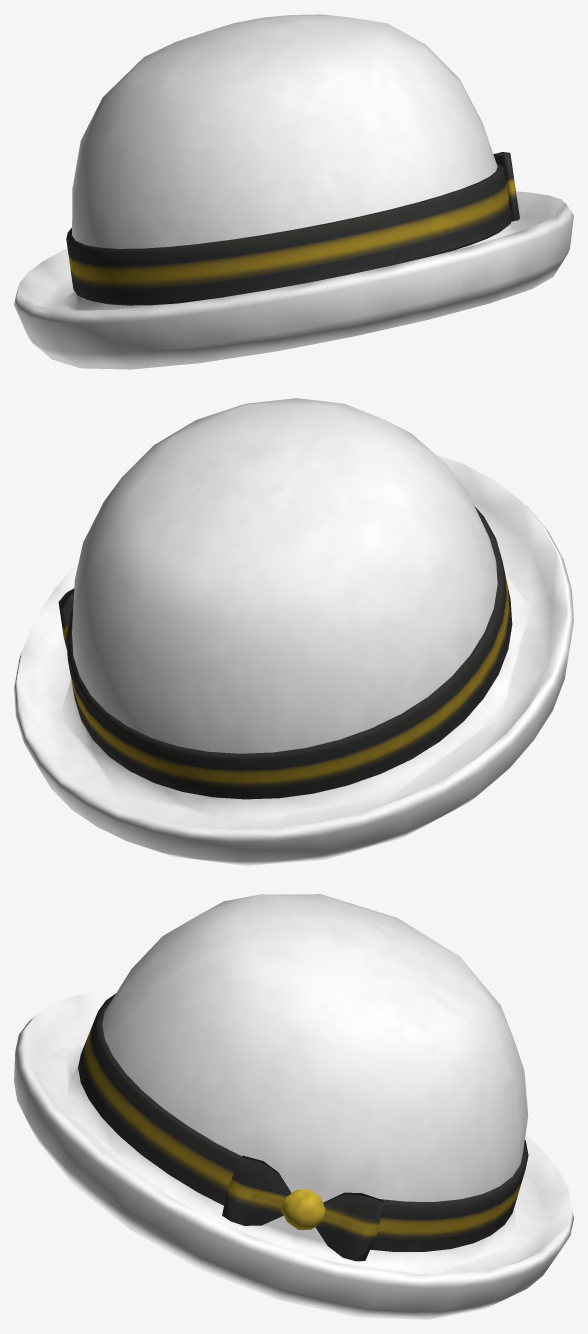
Rendered from p0_hdw0012_00_hdw00.gltf.
3 renders of one model, top to bottom at view 1: azimuth 30°, elevation 25°; view 2: azimuth 150°, elevation 25°; view 3: azimuth 270°, elevation 25°, orthographic.
Parts seen in each view (by area): view 1: hdw00_cap_mesh_shape:cap; view 2: hdw00_cap_mesh_shape:cap; view 3: hdw00_cap_mesh_shape:cap.
Boxes of the visible parts, x1=… form: hdw00_cap_mesh_shape:cap: x1=14, y1=14, x2=573, y2=369; hdw00_cap_mesh_shape:cap: x1=14, y1=398, x2=573, y2=865; hdw00_cap_mesh_shape:cap: x1=14, y1=894, x2=573, y2=1319.
Size of what is drawn, in the model's own units: 0.3617 by 0.2427 by 0.3639.
1 material, 1 textured.
